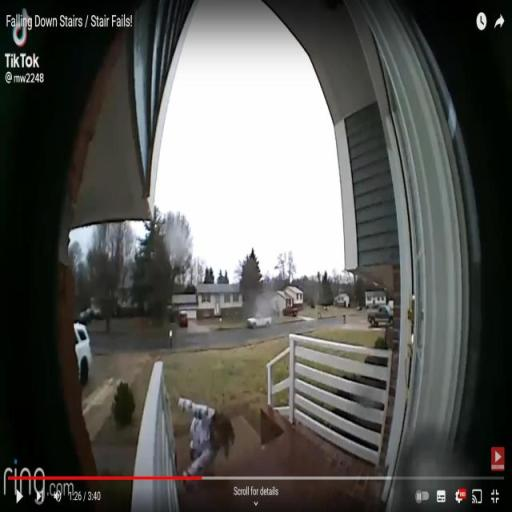Fall: (170, 388, 236, 486)
